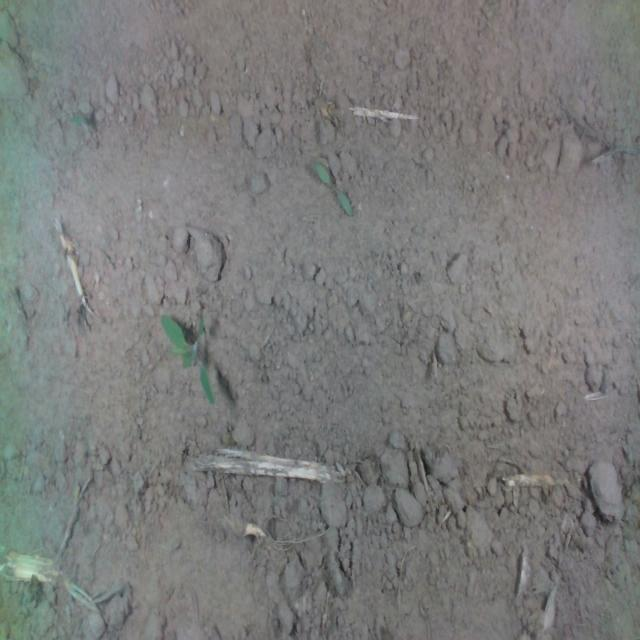weed: (160, 312, 214, 405), (313, 161, 353, 218)
